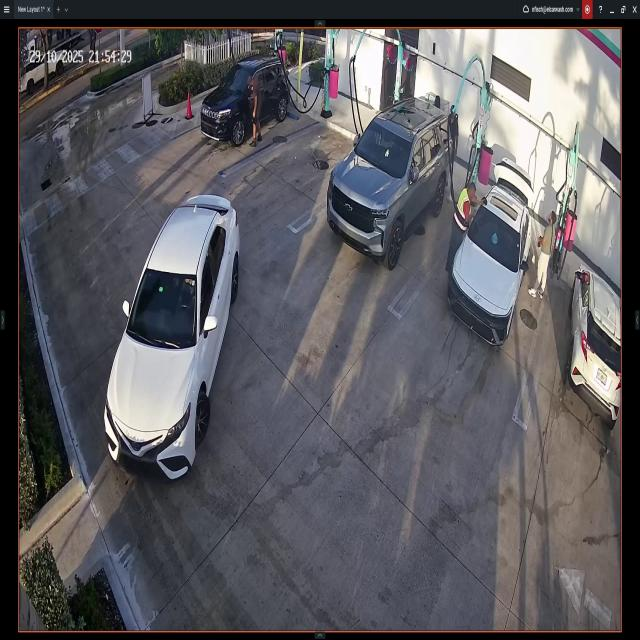Car: (103, 192, 240, 472), (326, 96, 451, 268), (449, 157, 533, 346), (570, 266, 622, 428), (204, 54, 288, 148)
